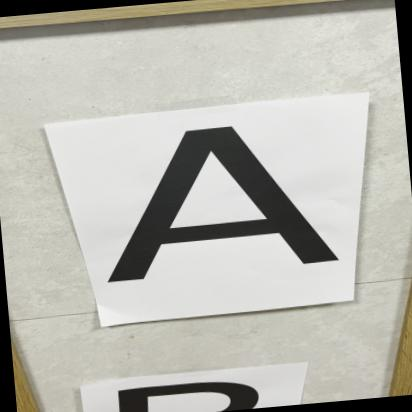seat: (100, 105, 357, 314)
